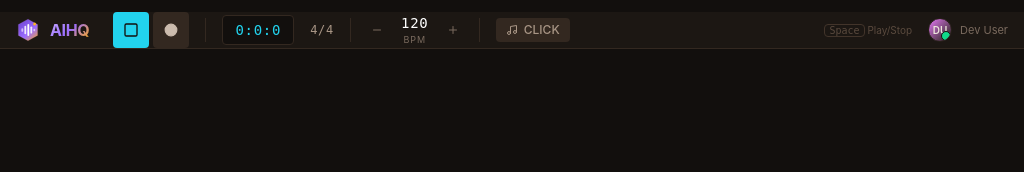
Test: TransportBar › clicking BPM value enters edit mode
The width and height of the screenshot is (1024, 172).
Click the button with test id "bpm-value" at (415, 23), box x1=391 y1=13 x2=439 y2=33
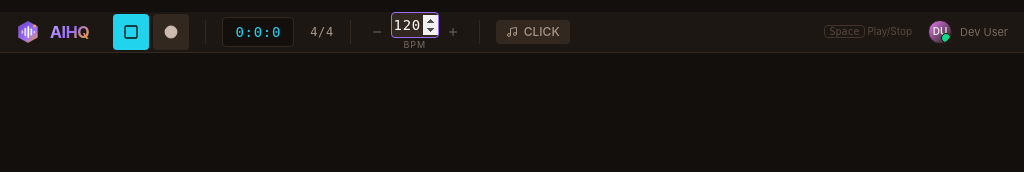
Check: the number field is shown, box x1=391 y1=12 x2=439 y2=38
